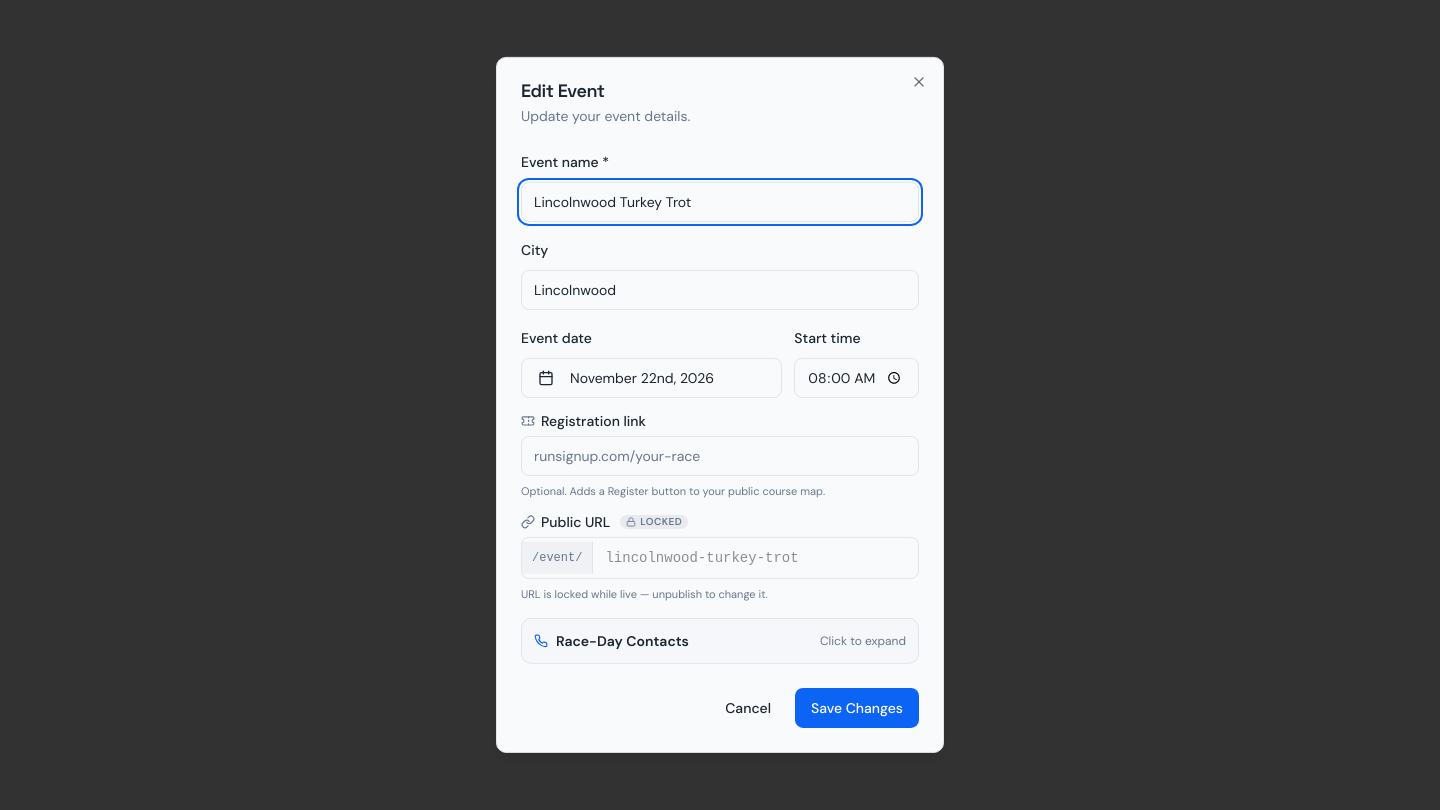
Test: EditEventDialog registration link › refuses a non-web link and says why, without saving
Step 1. Type "javascript:alert(1)" into the field labelled "Registration link" → (720, 456), box [521,436,919,476]
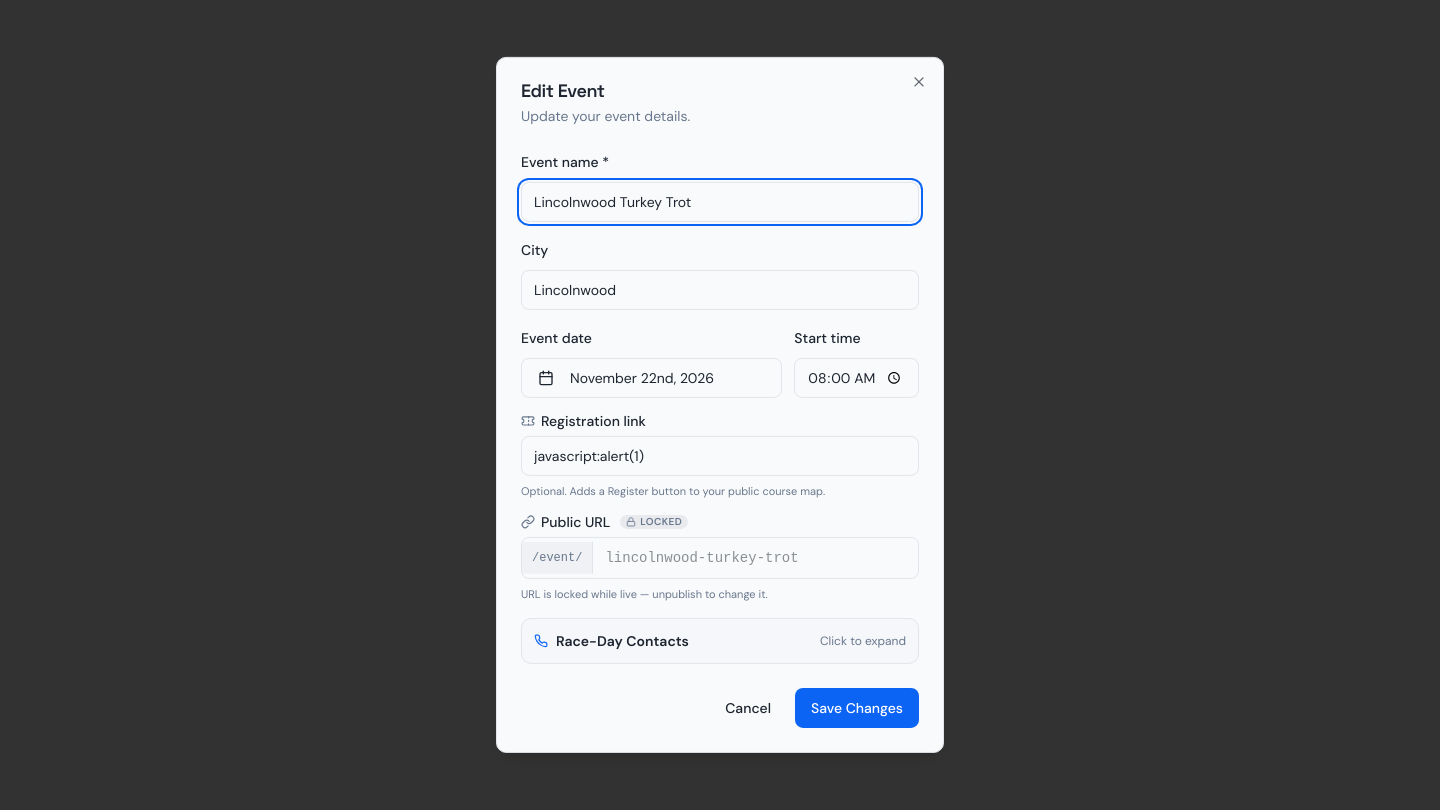
Step 2. Click the button "Save Changes" → (857, 708), box [795,688,919,728]
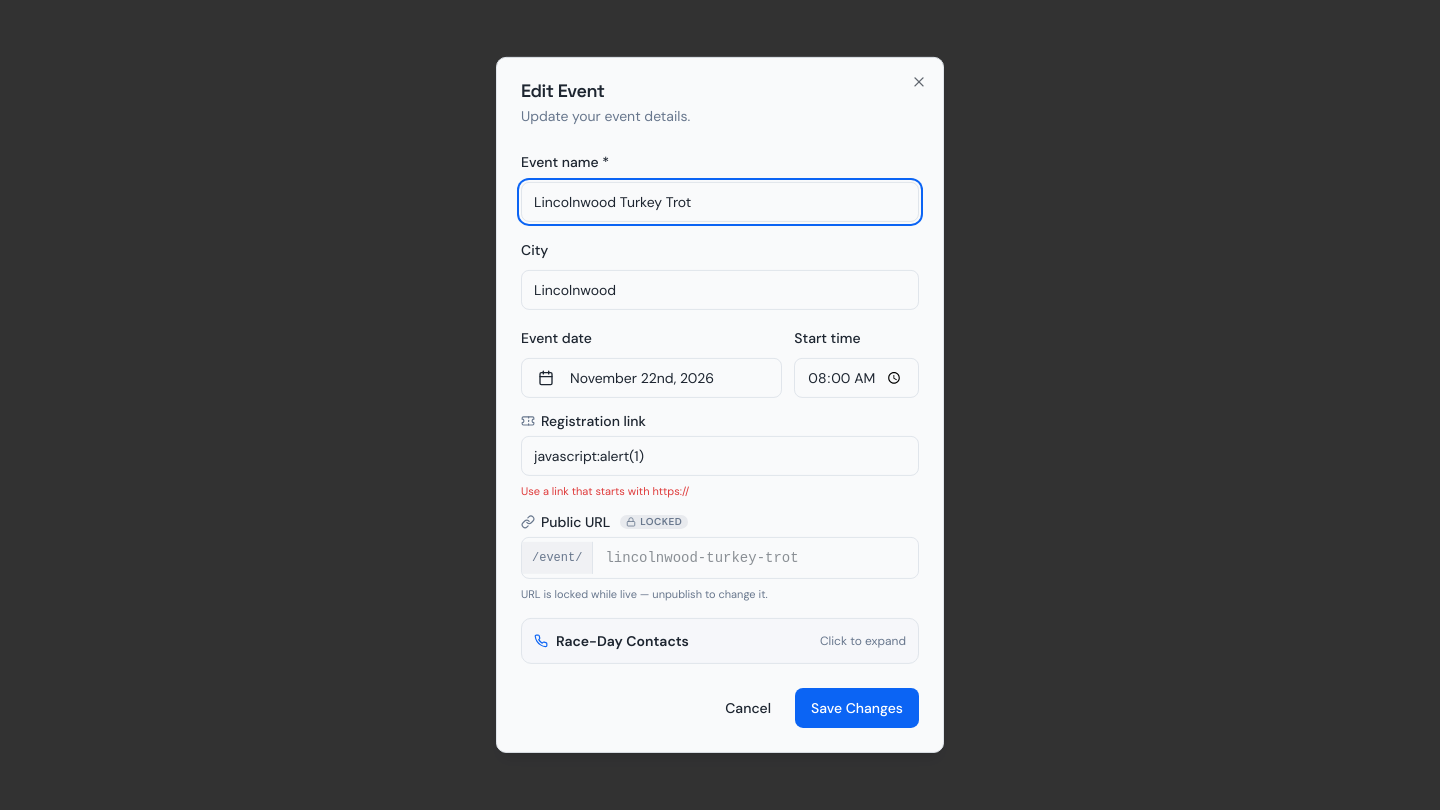
Check: the text "Use a link that starts with https://" is shown, box [521,484,689,498]
